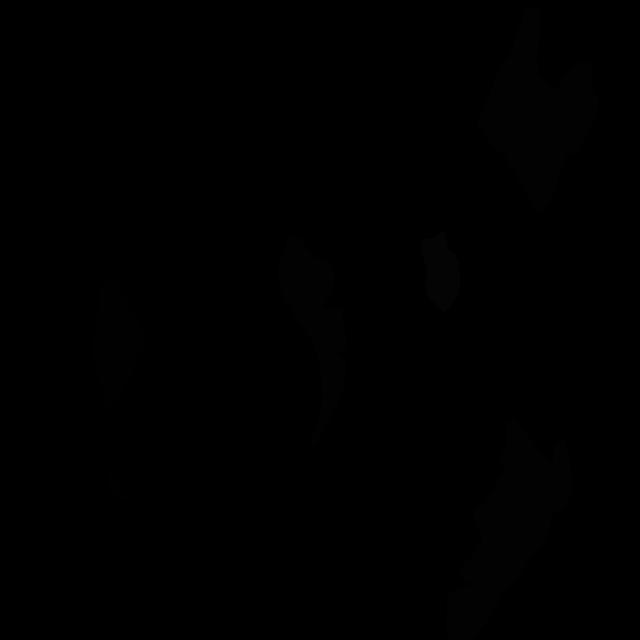cardboard: (446, 419, 561, 640), (476, 8, 600, 212), (278, 233, 347, 447), (553, 440, 574, 513)
rigid_plastic: (92, 278, 146, 418), (106, 465, 129, 501)
soft_plastic: (421, 230, 460, 313)
